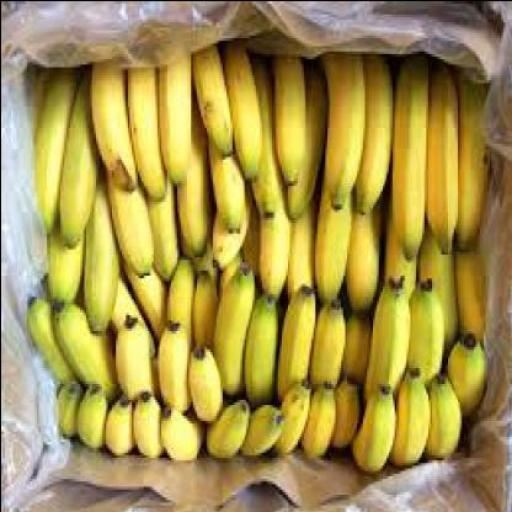biodegradable: (46, 69, 482, 420), (55, 66, 133, 245), (85, 61, 160, 190), (198, 66, 256, 227), (164, 71, 210, 261), (122, 68, 184, 193), (390, 50, 425, 259), (217, 37, 269, 177), (316, 50, 362, 206), (453, 58, 489, 250), (245, 50, 287, 213), (350, 48, 392, 208), (410, 203, 456, 348), (30, 71, 91, 180), (424, 53, 456, 251), (244, 169, 290, 304), (48, 301, 112, 393), (79, 180, 117, 332), (282, 61, 320, 209), (156, 64, 206, 176), (43, 171, 81, 309), (235, 270, 275, 401), (209, 250, 245, 394), (310, 174, 346, 306), (190, 47, 235, 151), (103, 177, 151, 272), (268, 48, 303, 176), (134, 171, 176, 275), (446, 216, 481, 340), (368, 274, 405, 388), (343, 372, 388, 465), (386, 358, 425, 464), (202, 177, 251, 261), (150, 301, 188, 407), (338, 188, 373, 303), (110, 303, 155, 391), (373, 190, 413, 288), (409, 277, 445, 378), (75, 372, 124, 446), (199, 385, 251, 454), (39, 306, 95, 370), (176, 340, 224, 414), (24, 290, 79, 354), (282, 195, 314, 303), (276, 272, 308, 378), (269, 367, 308, 451), (154, 392, 205, 456), (445, 324, 481, 414), (425, 364, 461, 454), (117, 258, 164, 322), (241, 377, 281, 451), (328, 372, 364, 451), (103, 382, 142, 452), (297, 375, 332, 451), (132, 382, 170, 452), (314, 288, 342, 380), (190, 248, 216, 343), (162, 246, 190, 326), (55, 372, 89, 430), (344, 298, 366, 380)
